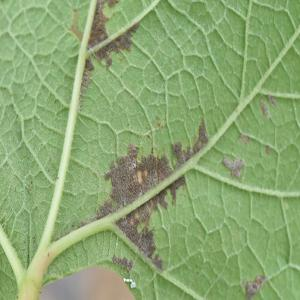Folha: (0, 0, 299, 299)
Fungo: (80, 120, 209, 272), (104, 142, 185, 231), (78, 0, 139, 110), (169, 120, 209, 204), (104, 142, 142, 208), (137, 152, 168, 210), (156, 152, 186, 205), (78, 56, 94, 110), (244, 274, 267, 299), (192, 120, 209, 153), (222, 156, 244, 178), (112, 254, 134, 272), (260, 98, 270, 120), (122, 277, 136, 289), (237, 132, 249, 146), (267, 93, 276, 107), (136, 168, 143, 184), (265, 144, 270, 154)
